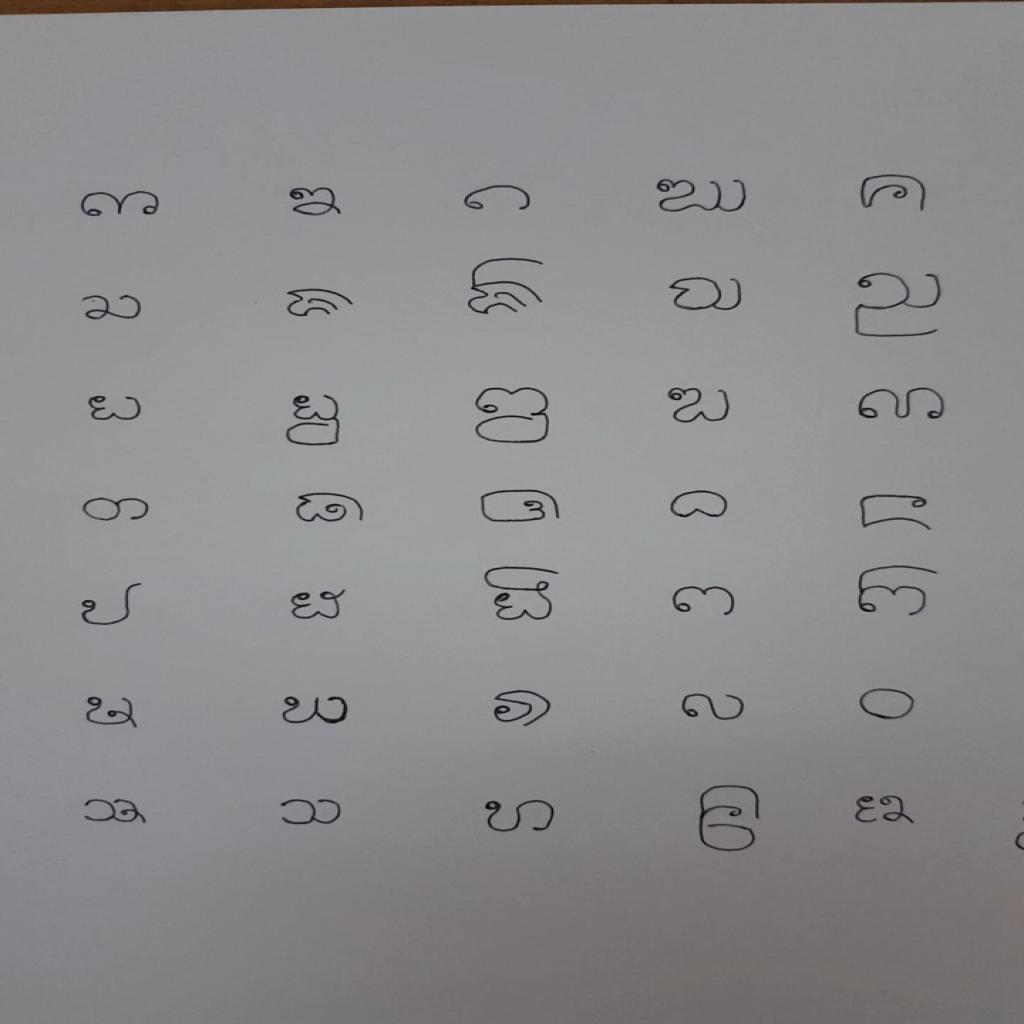LN001: (69, 186, 171, 223)
LN002: (280, 181, 353, 222)
LN003: (456, 182, 542, 218)
LN004: (647, 175, 758, 218)
LN005: (852, 169, 937, 218)
LN007: (72, 289, 153, 326)
LN008: (277, 285, 363, 322)
LN009: (456, 254, 559, 322)
LN010: (662, 273, 753, 317)
LN011: (846, 268, 955, 346)
LN013: (81, 390, 154, 427)
LN014: (279, 390, 350, 451)
LN015: (467, 383, 560, 450)
LN016: (660, 383, 741, 428)
LN017: (848, 383, 955, 426)
LN019: (74, 493, 161, 527)
LN020: (286, 489, 377, 528)
LN021: (469, 485, 570, 530)
LN022: (665, 487, 738, 524)
LN023: (851, 489, 942, 536)
LN025: (73, 577, 150, 632)
LN026: (282, 586, 356, 625)
LN027: (477, 562, 570, 626)
LN028: (663, 582, 747, 622)
LN029: (849, 561, 949, 622)
LN031: (75, 692, 149, 735)
LN032: (271, 690, 362, 732)
LN033: (486, 685, 562, 733)
LN034: (673, 687, 755, 727)
LN035: (851, 684, 927, 726)
LN037: (74, 794, 158, 832)
LN038: (270, 794, 353, 831)
LN039: (475, 795, 565, 838)
LN040: (690, 782, 772, 857)
LN041: (845, 789, 921, 830)
